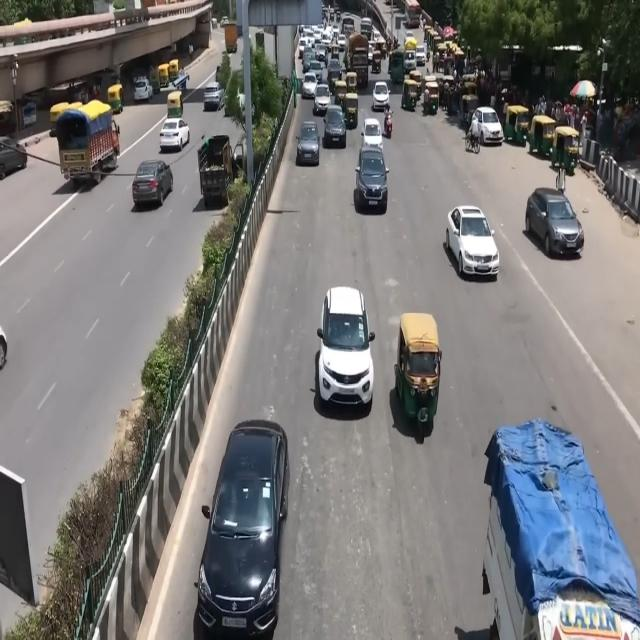auto: (397, 312, 444, 432), (552, 125, 581, 173), (529, 115, 556, 159), (504, 105, 530, 148), (460, 75, 479, 112), (402, 77, 421, 112), (422, 78, 439, 115), (343, 92, 359, 130), (107, 83, 124, 115), (166, 91, 184, 119), (333, 80, 348, 110), (408, 70, 424, 98), (452, 46, 466, 73), (434, 40, 446, 69), (425, 27, 438, 52), (371, 49, 381, 74), (404, 37, 417, 53)
bike-auto: (383, 106, 393, 138)
